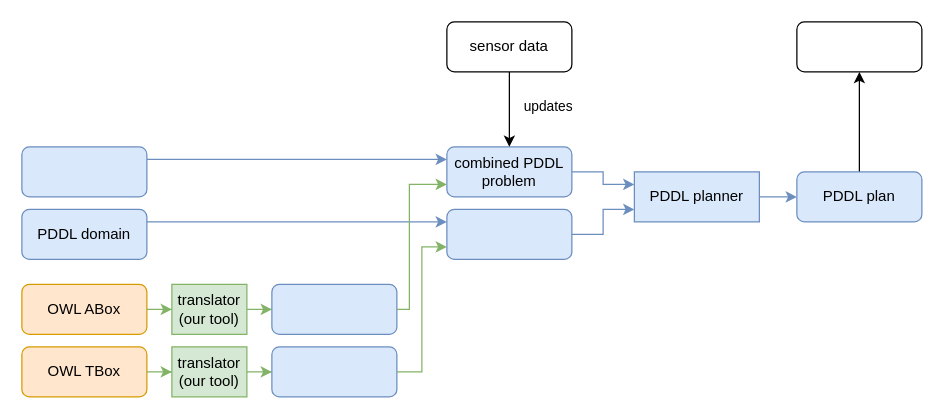
Image size: 944x419. Some labels were removed from this diagram. The centre of each missing label's shape, as x and y in pixels:
"combined PDDL domain" goes at point (509, 233).
"PDDDL atoms" goes at point (334, 308).
"PDDL derived predicates" goes at point (334, 371).
"PDDL problem" goes at point (84, 171).
"plan execution" goes at point (859, 46).
